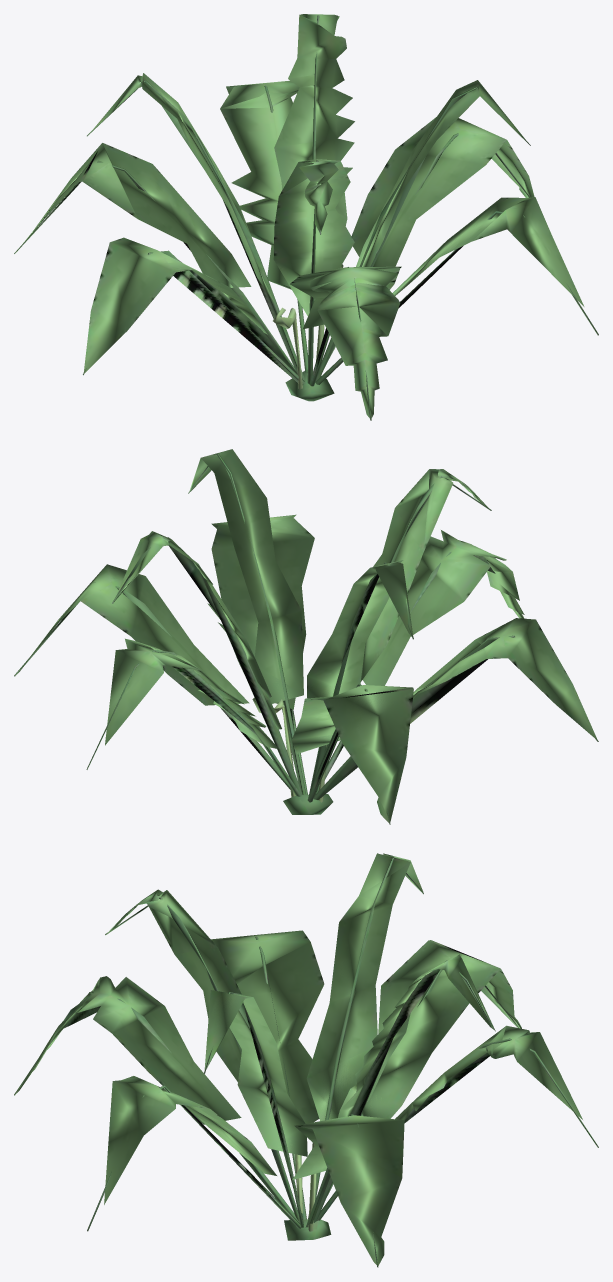
File: fern.glb
3 views of the same model, one above another, from view 1: azimuth 30°, elevation 25°; view 2: azimuth 150°, elevation 25°; view 3: azimuth 270°, elevation 25° (orthographic). The views are drawn at different scales.
Visible parts, largest first — view 1: fern_body; view 2: fern_body; view 3: fern_body.
Boxes of the visible parts, <box> form: fern_body: <box>14,14,598,420</box>; fern_body: <box>14,449,598,824</box>; fern_body: <box>14,853,598,1267</box>.
Size of the model in its own units: 1.41 by 0.7974 by 1.33.
Materials: 1 (1 with a texture image).
